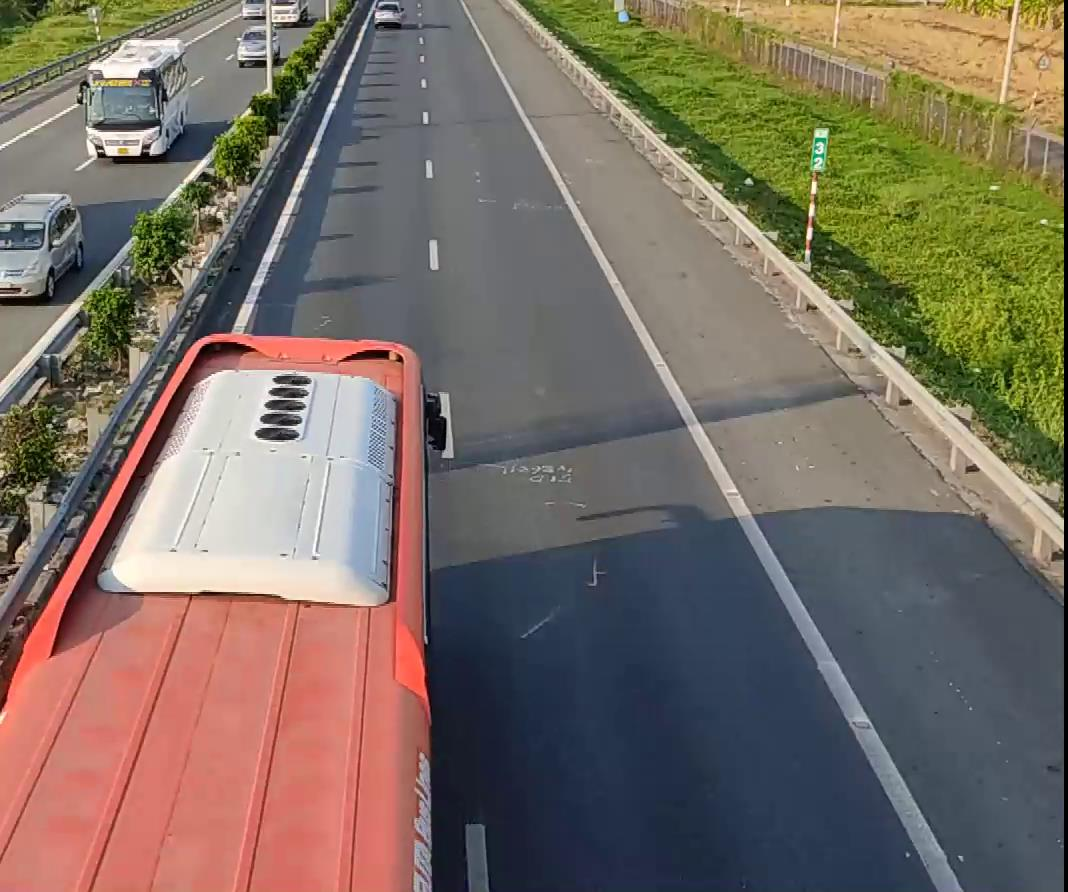bus: (0, 363, 436, 883), (81, 35, 188, 160)
car: (0, 191, 85, 302)
